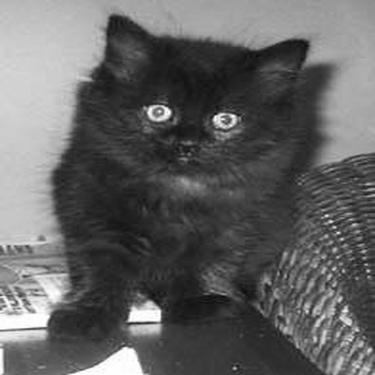cat: (49, 9, 313, 350)
